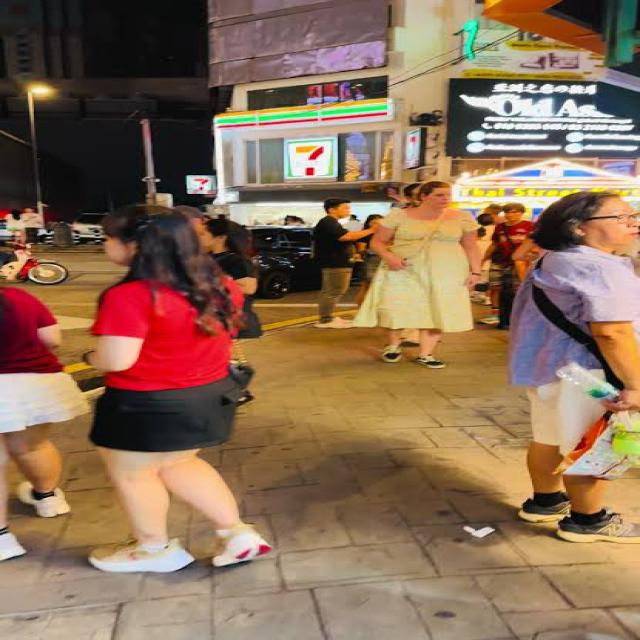Person: (70, 195, 290, 592), (511, 185, 640, 552), (359, 176, 485, 372), (306, 195, 364, 332), (483, 201, 536, 325)
